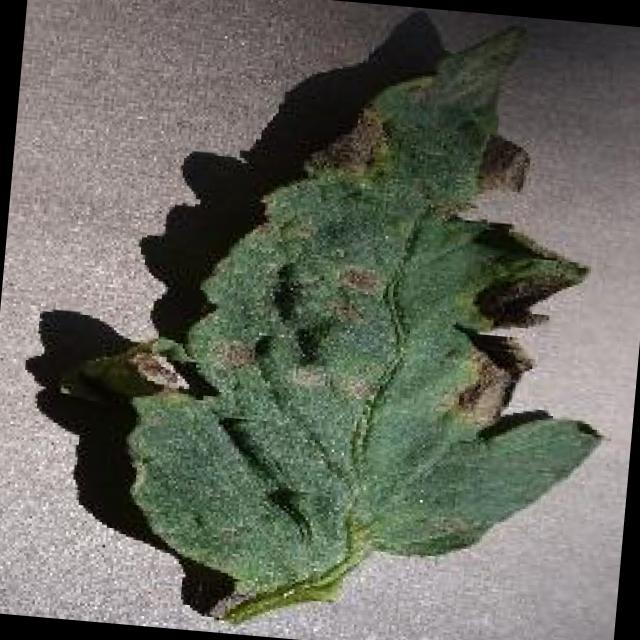Tomato_Early_Blight: (307, 13, 624, 431), (95, 291, 274, 468)
